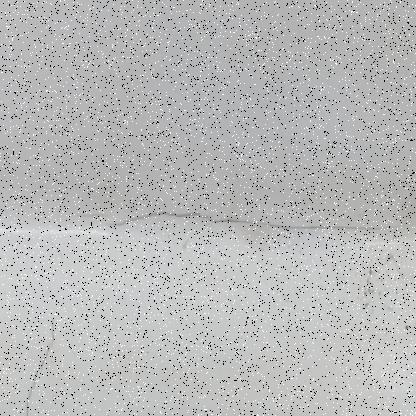Crack: (44, 194, 412, 268), (6, 321, 66, 415)
